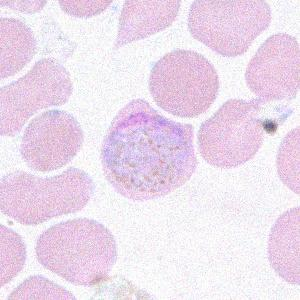Infected: (99, 98, 198, 202)
Uninfected: (0, 58, 74, 137), (35, 217, 117, 286), (0, 166, 94, 226), (187, 0, 271, 58), (149, 48, 219, 116), (195, 97, 262, 168), (20, 108, 83, 174), (244, 32, 300, 99), (113, 0, 179, 45)
